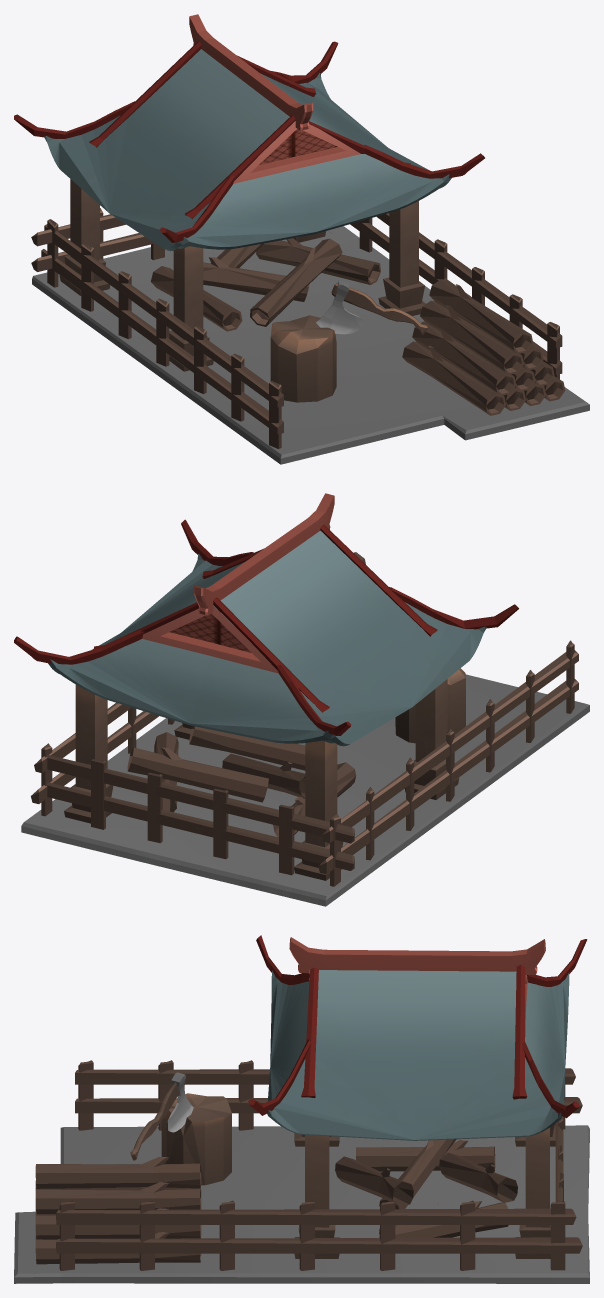
Rendered from Sawmill_1lvl.fbx.
3 renders of one model, top to bottom at view 1: azimuth 30°, elevation 25°; view 2: azimuth 150°, elevation 25°; view 3: azimuth 270°, elevation 25°, orthographic. The views are drawn at different scales.
Visible parts, largest first — view 1: Sawmill_1lvl; view 2: Sawmill_1lvl; view 3: Sawmill_1lvl.
Boxes of the visible parts, x1=… form: Sawmill_1lvl: x1=14, y1=14, x2=589, y2=464; Sawmill_1lvl: x1=14, y1=493, x2=589, y2=906; Sawmill_1lvl: x1=14, y1=935, x2=589, y2=1283.
Size of the model in its own units: 4.51 by 3.33 by 6.47.
1 material, 1 textured.
